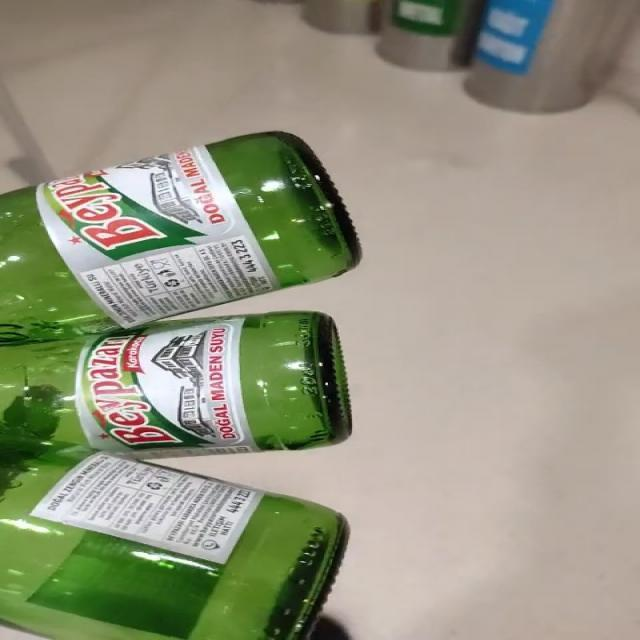Glass: (1, 132, 359, 640)
